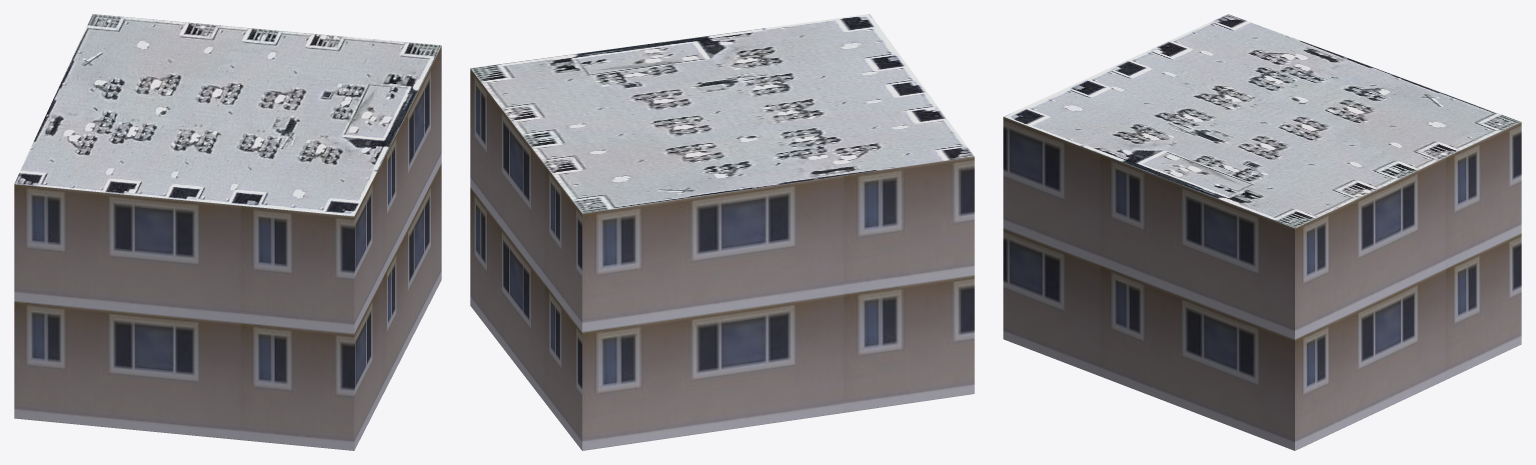
File: ResTex__2160.fbx
3 renders of one model, left to right at view 1: azimuth 30°, elevation 25°; view 2: azimuth 150°, elevation 25°; view 3: azimuth 270°, elevation 25°, orthographic. The views are drawn at different scales.
Parts seen in each view (by area): view 1: CityEngineMaterial_21_m, CityEngineMaterial_m; view 2: CityEngineMaterial_21_m, CityEngineMaterial_m; view 3: CityEngineMaterial_21_m, CityEngineMaterial_m.
Part boxes in pixels (x1,y1,x2,y2): CityEngineMaterial_21_m: [14, 46, 441, 450]; CityEngineMaterial_m: [14, 14, 441, 216]; CityEngineMaterial_21_m: [470, 68, 974, 450]; CityEngineMaterial_m: [470, 14, 974, 213]; CityEngineMaterial_21_m: [1003, 117, 1521, 450]; CityEngineMaterial_m: [1004, 14, 1520, 228].
Bounding box in the file's own units: 12.39 × 6 × 12.66.
2 materials, 2 textured.
